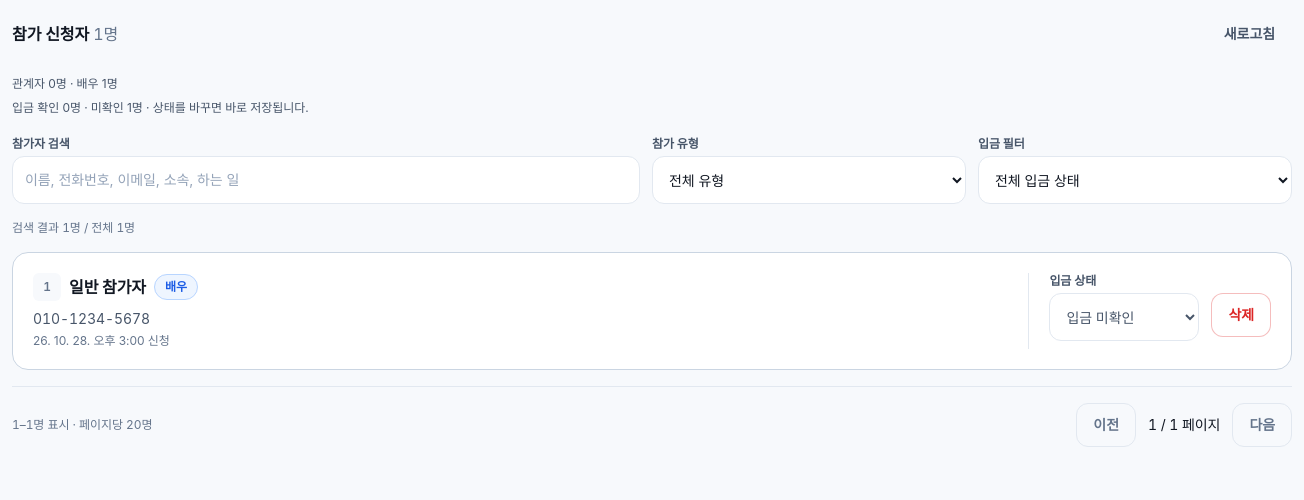
Test: 저장에 실패하면 기존 입금 상태와 참가자 정보를 유지한다
The image size is (1304, 500).
Select "입금 확인" in the dropdown labelled "입금 상태". click: (1124, 317)
box: x1=1049 y1=293 x2=1199 y2=341
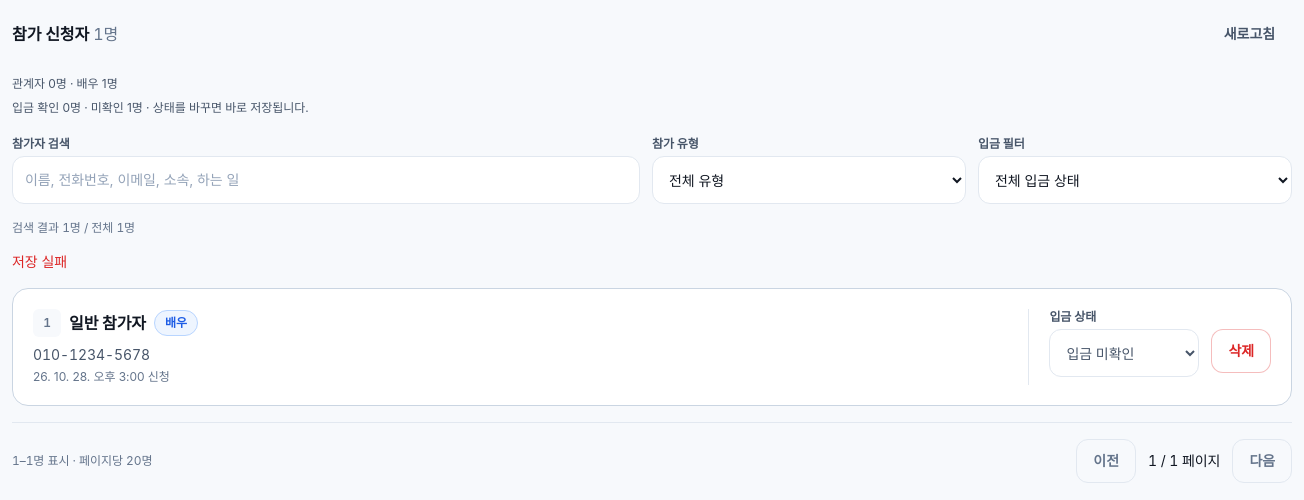
Expected: the text "일반 참가자" is shown, x1=69 y1=311 x2=146 y2=335
Result: the message "저장 실패" is shown at x1=12 y1=253 x2=67 y2=270
